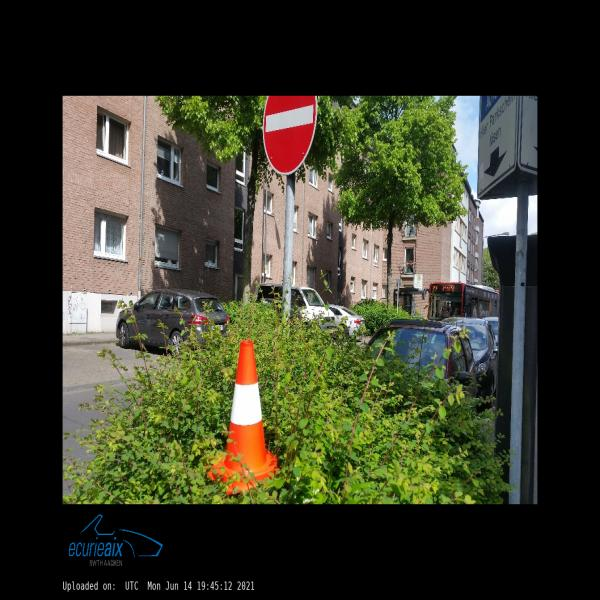orange_cone: (205, 340, 283, 494)
